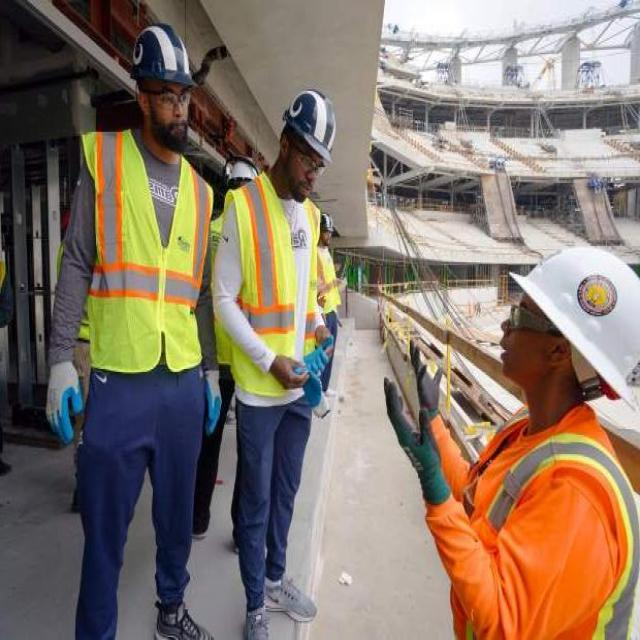Reflective-Jacket: (459, 414, 638, 640), (72, 128, 212, 380), (224, 178, 326, 396)
Safety-Helmet: (508, 243, 639, 400), (125, 19, 199, 97), (280, 82, 340, 164)
